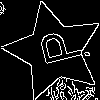P: (29, 26, 84, 70)
